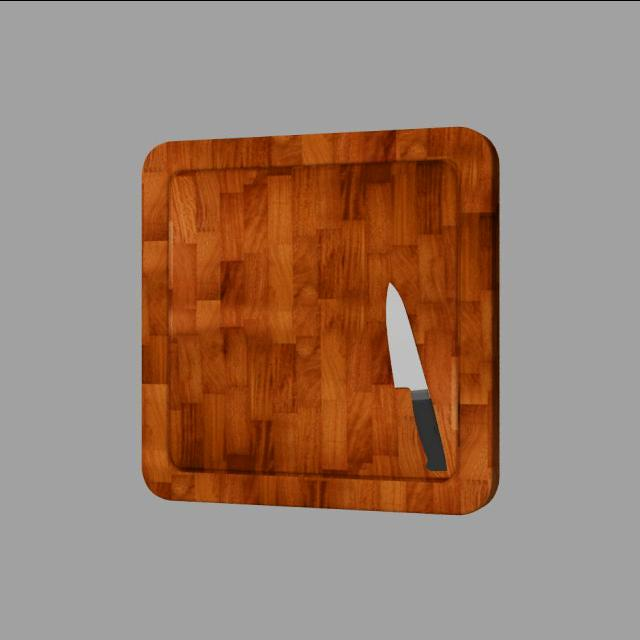knife: (413, 396, 452, 476)
